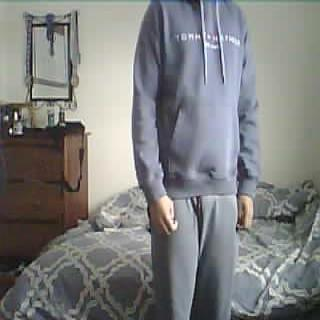Blue Hoodie: (132, 3, 262, 196)
Blue Sweatpants: (146, 196, 240, 320)
